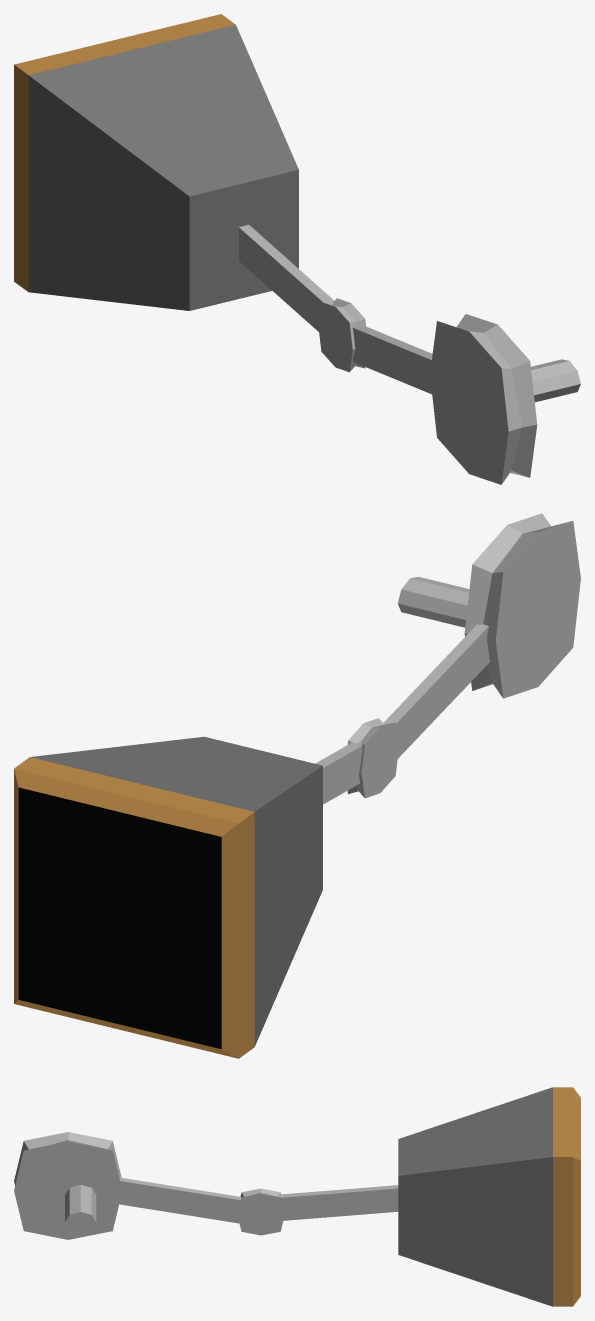
The model's file is WageCageArm.glb.
3 renders of one model, top to bottom at view 1: azimuth 30°, elevation 25°; view 2: azimuth 150°, elevation 25°; view 3: azimuth 270°, elevation 25°, orthographic. The views are drawn at different scales.
Visible parts, largest first — view 1: ArmHand, Arm, ArmForearm, ArmFirstLength, ArmElbow, ArmSprut; view 2: ArmHand, Arm, ArmFirstLength, ArmElbow, ArmSprut, ArmForearm; view 3: ArmHand, Arm, ArmFirstLength, ArmForearm, ArmElbow, ArmSprut.
Boxes of the visible parts, x1=… form: ArmHand: x1=14, y1=14, x2=298, y2=310; Arm: x1=430, y1=314, x2=537, y2=484; ArmForearm: x1=239, y1=225, x2=334, y2=331; ArmFirstLength: x1=352, y1=325, x2=432, y2=394; ArmElbow: x1=318, y1=298, x2=365, y2=372; ArmSprut: x1=531, y1=359, x2=580, y2=402; ArmHand: x1=14, y1=736, x2=322, y2=1058; Arm: x1=464, y1=513, x2=580, y2=698; ArmFirstLength: x1=383, y1=624, x2=489, y2=758; ArmElbow: x1=347, y1=718, x2=398, y2=798; ArmSprut: x1=397, y1=576, x2=469, y2=627; ArmForearm: x1=315, y1=742, x2=362, y2=804; ArmHand: x1=398, y1=1087, x2=580, y2=1306; Arm: x1=14, y1=1132, x2=122, y2=1239; ArmFirstLength: x1=119, y1=1177, x2=241, y2=1223; ArmForearm: x1=276, y1=1185, x2=398, y2=1220; ArmElbow: x1=237, y1=1188, x2=284, y2=1235; ArmSprut: x1=65, y1=1184, x2=96, y2=1232.
Bounding box in the file's own units: 0.1692 × 0.1692 × 0.5805.
